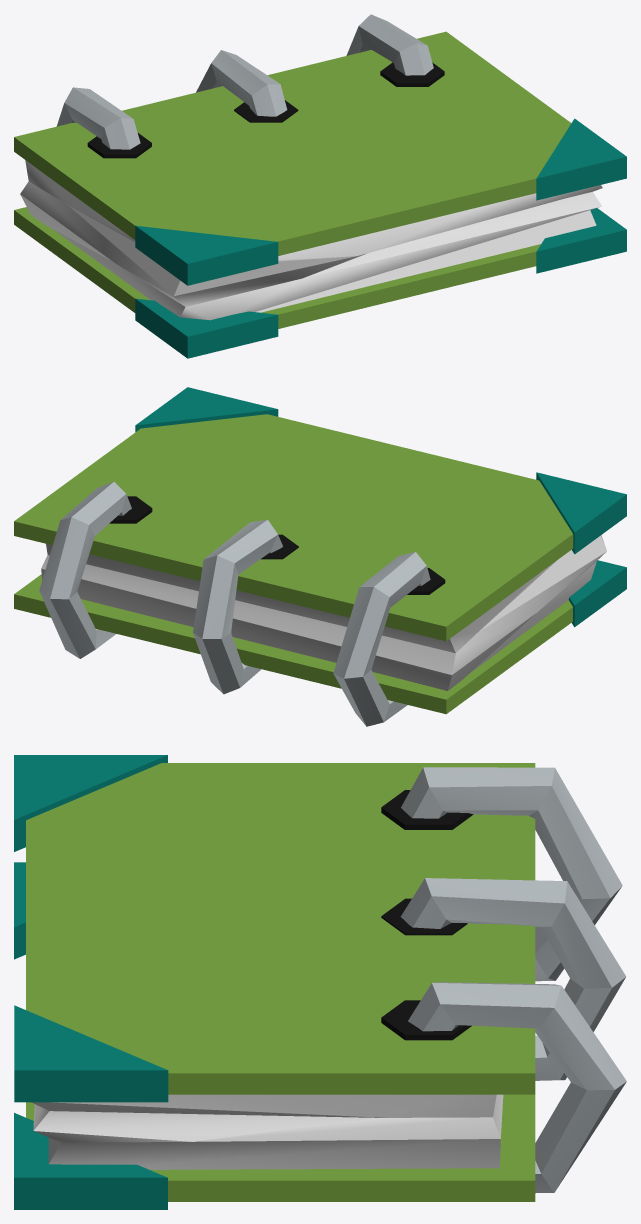
3 renders of one model, top to bottom at view 1: azimuth 30°, elevation 25°; view 2: azimuth 150°, elevation 25°; view 3: azimuth 270°, elevation 25°, orthographic. The views are drawn at different scales.
Visible parts, largest first — view 1: node_MeshObject-1592852480-PolyPaper15; view 2: node_MeshObject-1592852480-PolyPaper15; view 3: node_MeshObject-1592852480-PolyPaper15.
Part boxes in pixels (x1=…): node_MeshObject-1592852480-PolyPaper15: x1=14, y1=14, x2=626, y2=358; node_MeshObject-1592852480-PolyPaper15: x1=14, y1=387, x2=626, y2=726; node_MeshObject-1592852480-PolyPaper15: x1=14, y1=755, x2=626, y2=1209.
Size of the model in its own units: 0.63 by 0.1989 by 0.5175.
